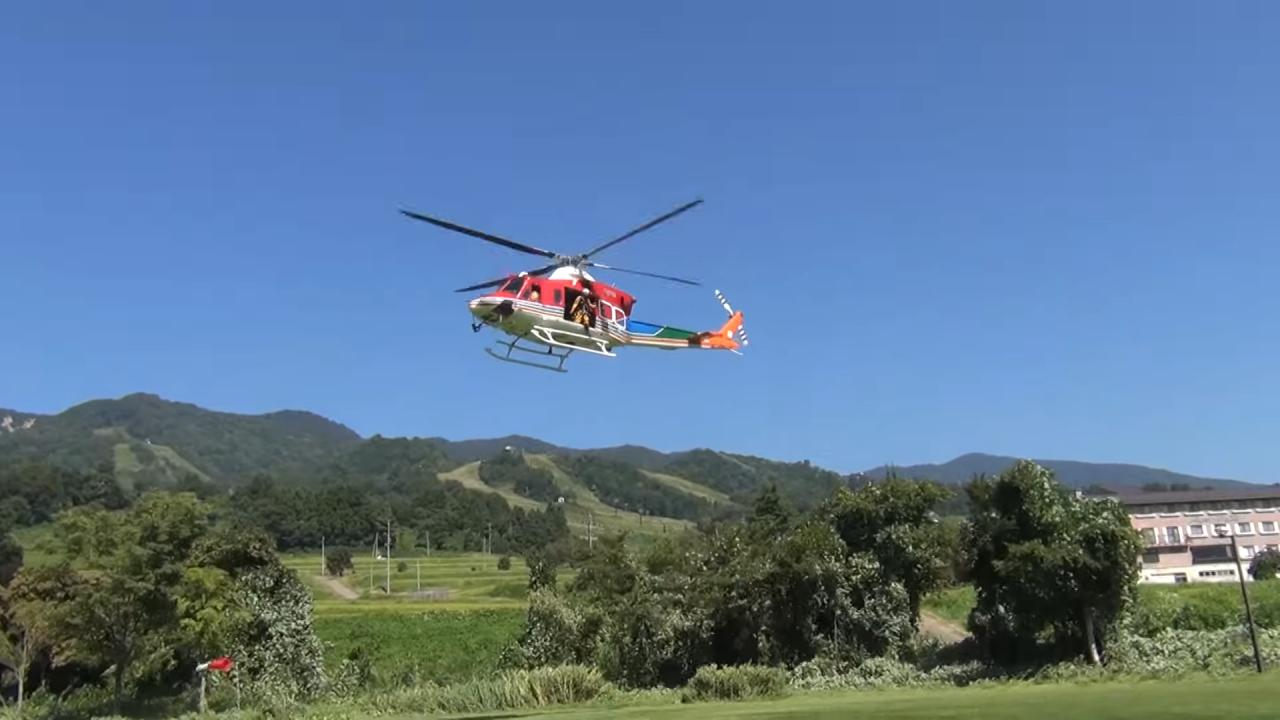Helicopter: (392, 172, 760, 381)
